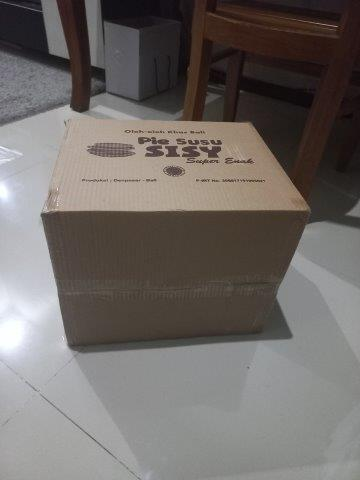kardus: (42, 116, 312, 347)
